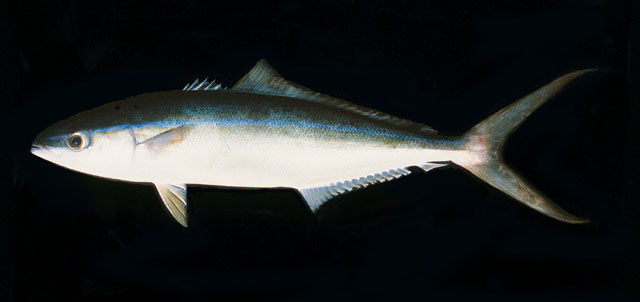fish: (31, 60, 600, 229)
